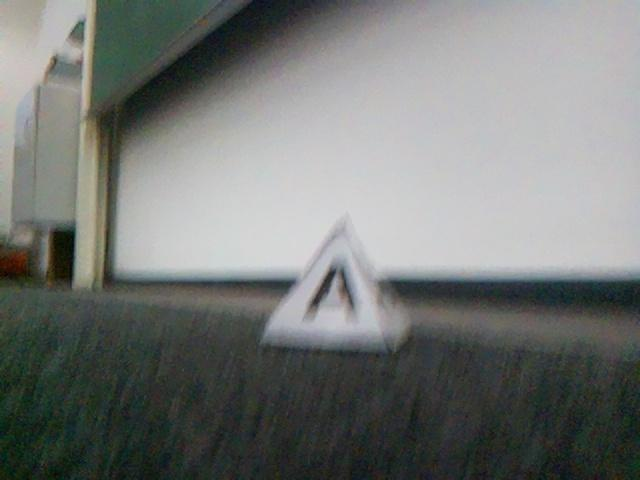A: (258, 216, 406, 349)
